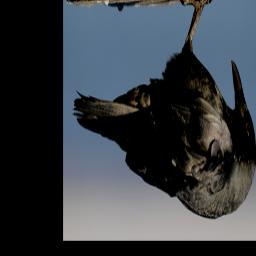Crow: (71, 0, 256, 221)
